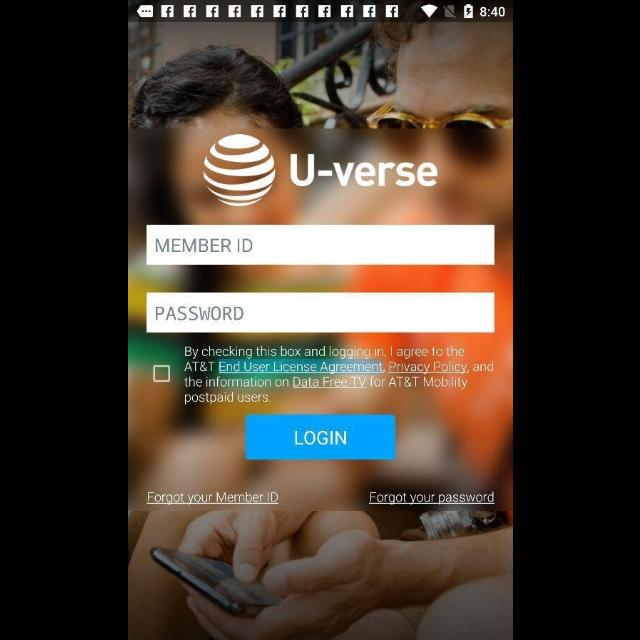backgroundimage: (128, 22, 512, 640)
checkbox: (152, 365, 170, 383)
image: (202, 134, 276, 208)
input: (145, 292, 493, 334), (146, 226, 494, 264)
text: (183, 346, 492, 404), (288, 154, 438, 188), (146, 491, 278, 505), (368, 491, 494, 505), (156, 238, 252, 252), (156, 307, 242, 321)
textbutton: (245, 414, 395, 460), (218, 359, 382, 375), (146, 491, 278, 505), (368, 491, 494, 505), (387, 360, 467, 376), (292, 376, 366, 389)
uppertaskbar: (128, 1, 512, 23)
